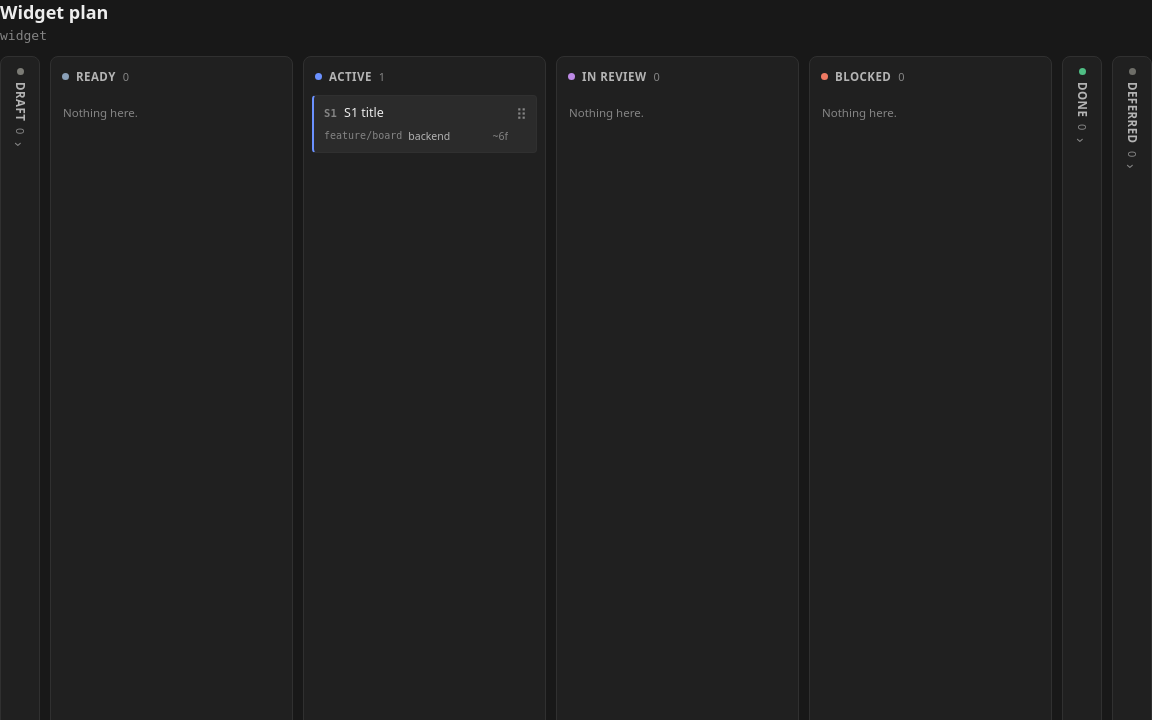
it: opens the scope, delivery and progress ai-planner records for a slice
Click the text "S1 title". click: x=364, y=113
box: [344,104,384,122]
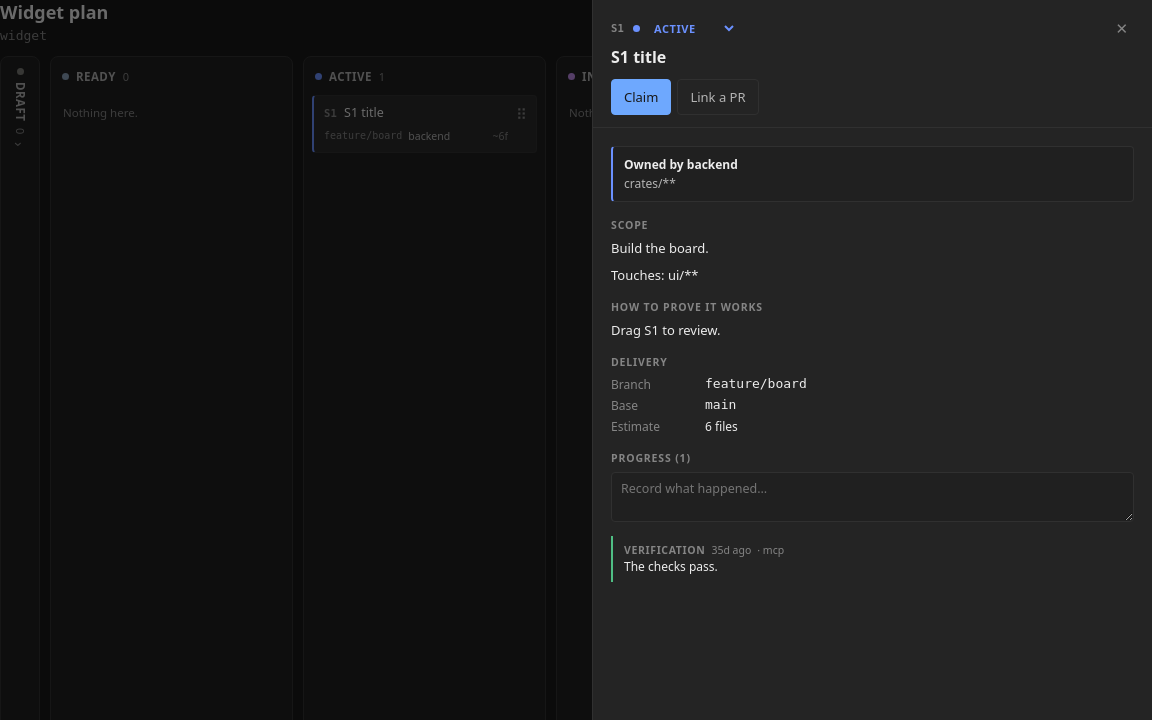
Check: the text "Build the board." is shown, box [611,239,709,257]
Check: the text "feature/board" is shown, box [705,376,807,391]
Check: the text "The checks pass." is shown, box [624,558,718,575]
